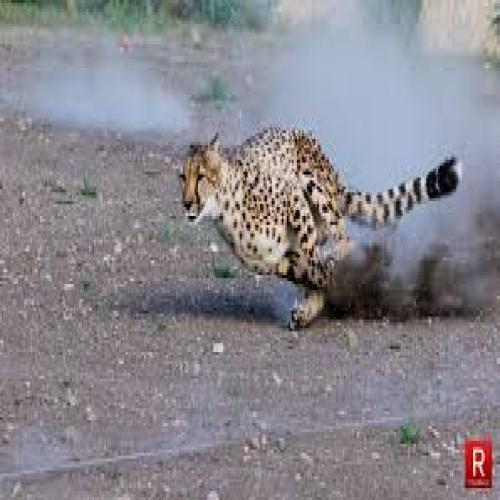cheetah-endangered: (178, 129, 458, 321)
